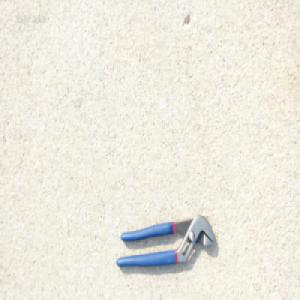Pliers: (114, 212, 216, 268)
